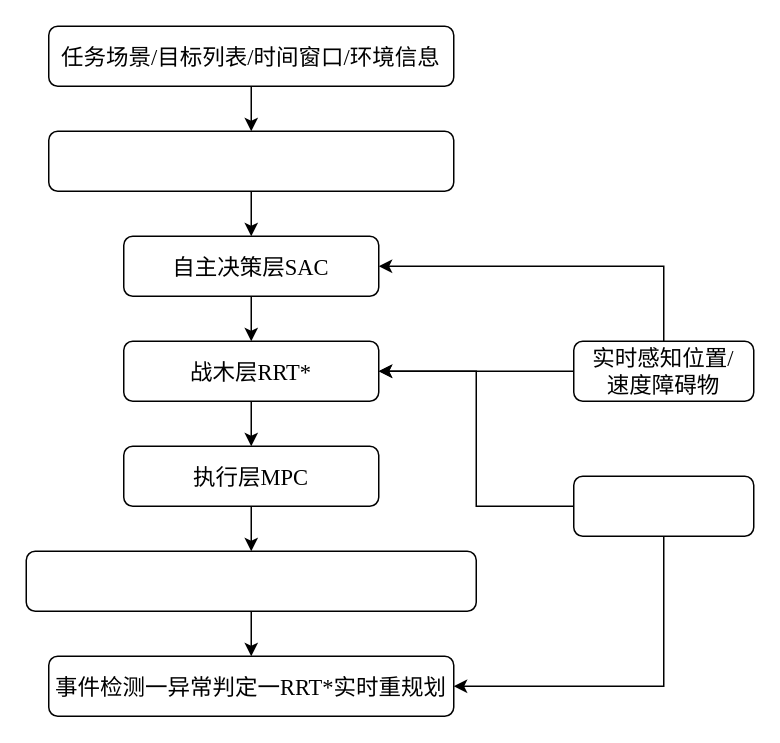
Image size: 780x743. Some labels were removed from this diagram. Each missing label, with the box of its shape:
异常触发、 重新规划: (572, 475, 754, 536)
战略层 + 协同层 A*/Branch&Bound + CBBA: (47, 130, 454, 191)
相对轨道动力学/推进剂/姿态/障碍物约束: (25, 550, 476, 611)
